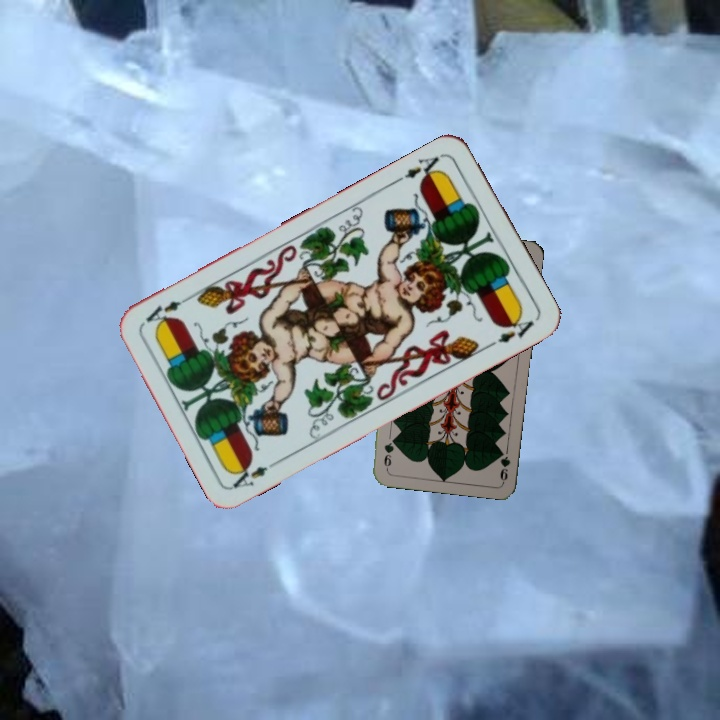EA: (392, 149, 447, 186), (227, 455, 283, 491)
G9: (496, 447, 513, 484)
